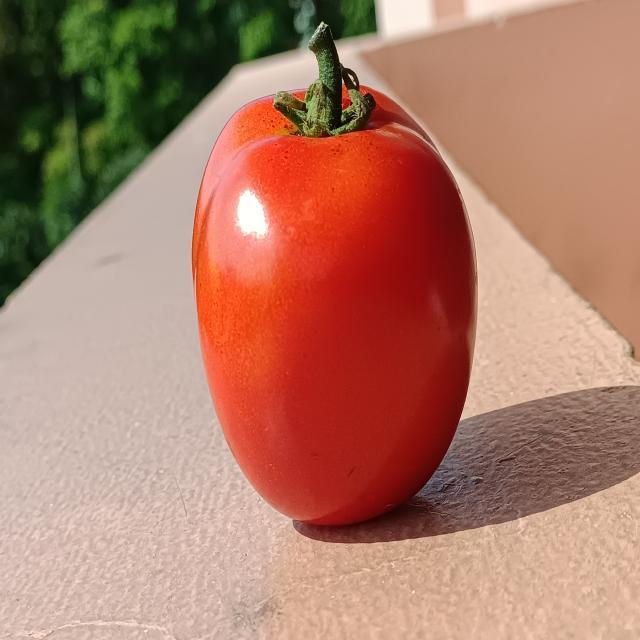Masak: (178, 64, 493, 528)
